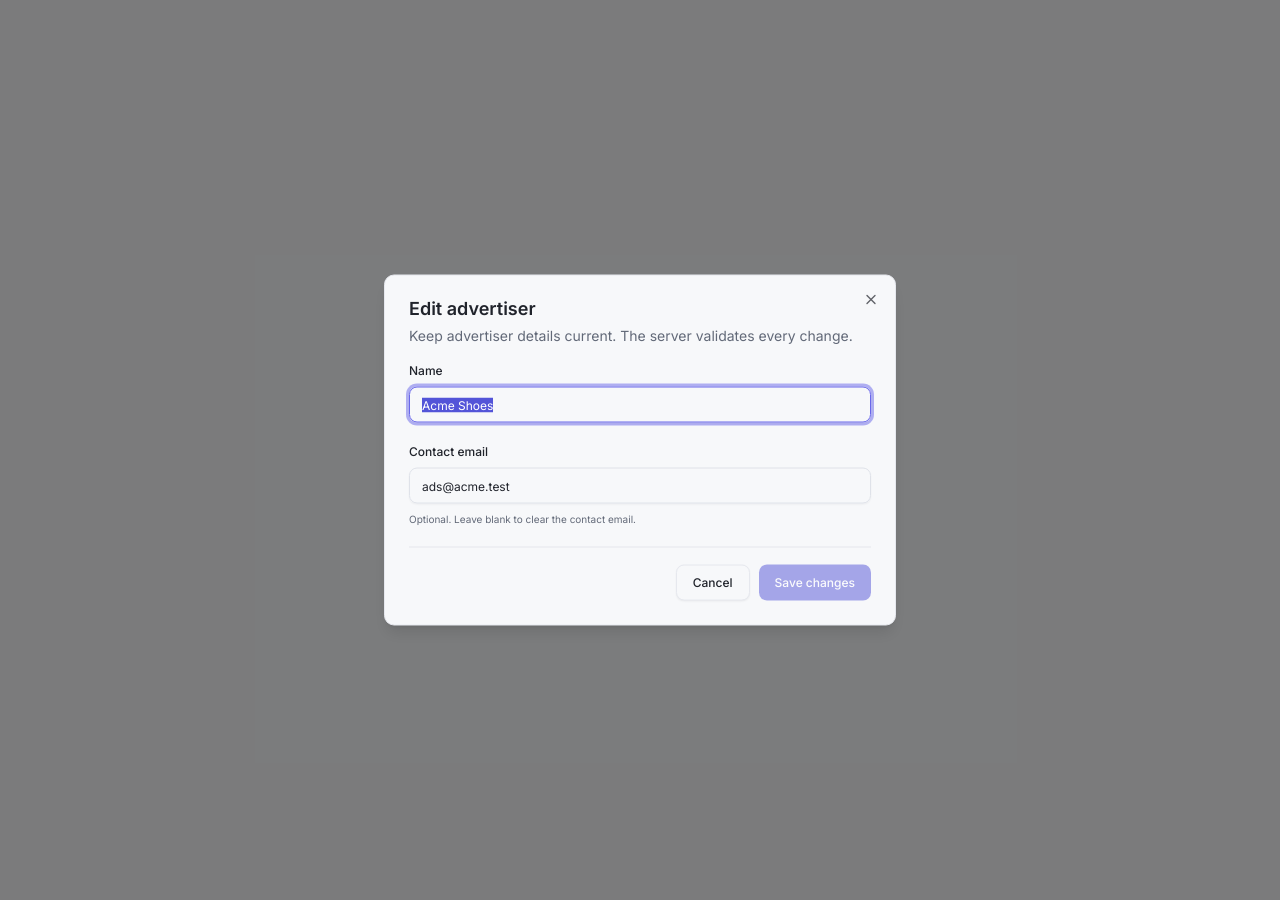
it: maps server field errors and keeps request ID visible
The image size is (1280, 900).
Type " Updated" into the field labelled "Name" at (640, 404), box [409,386,871,422]
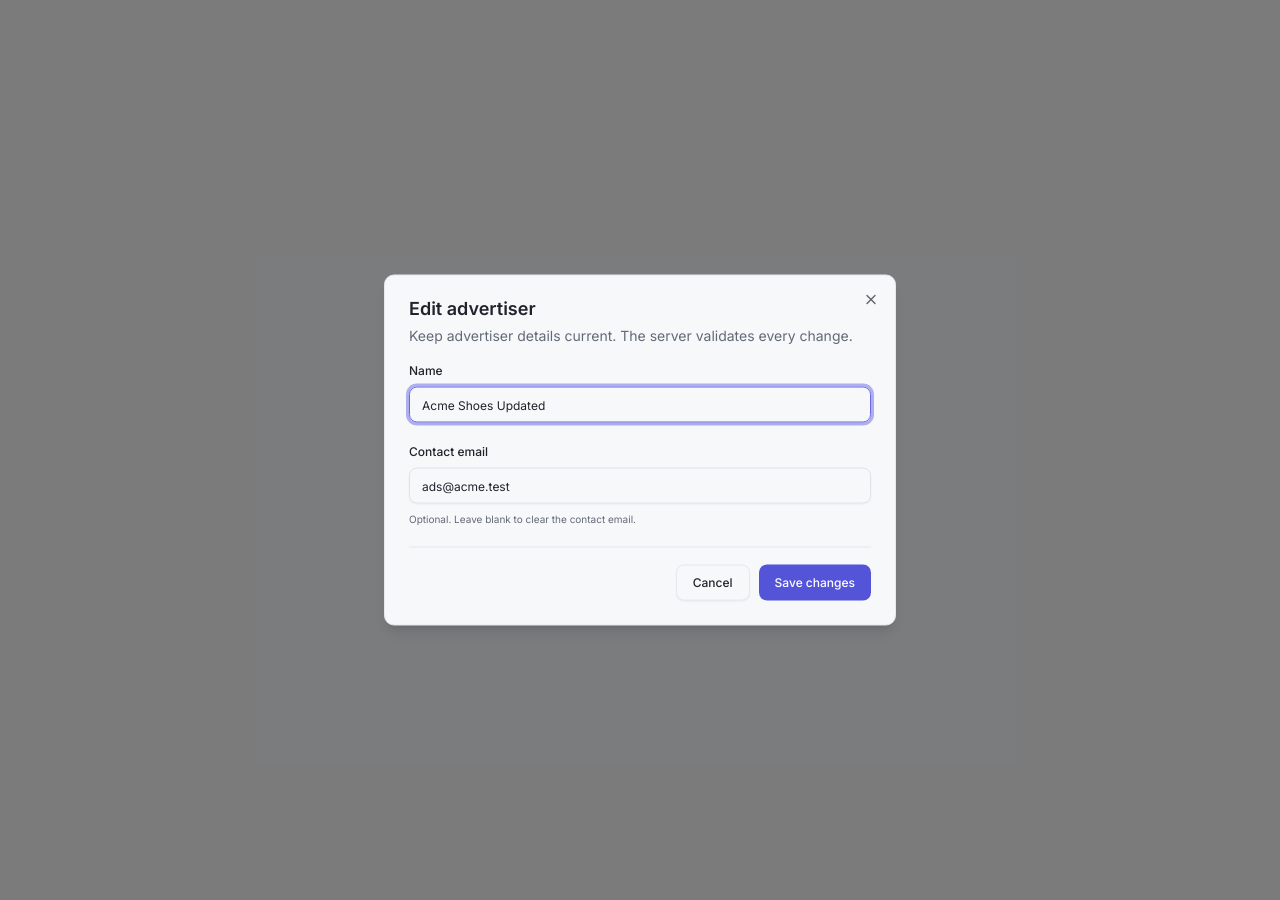
Click the button "Save changes" at (815, 582), box [759,564,871,600]
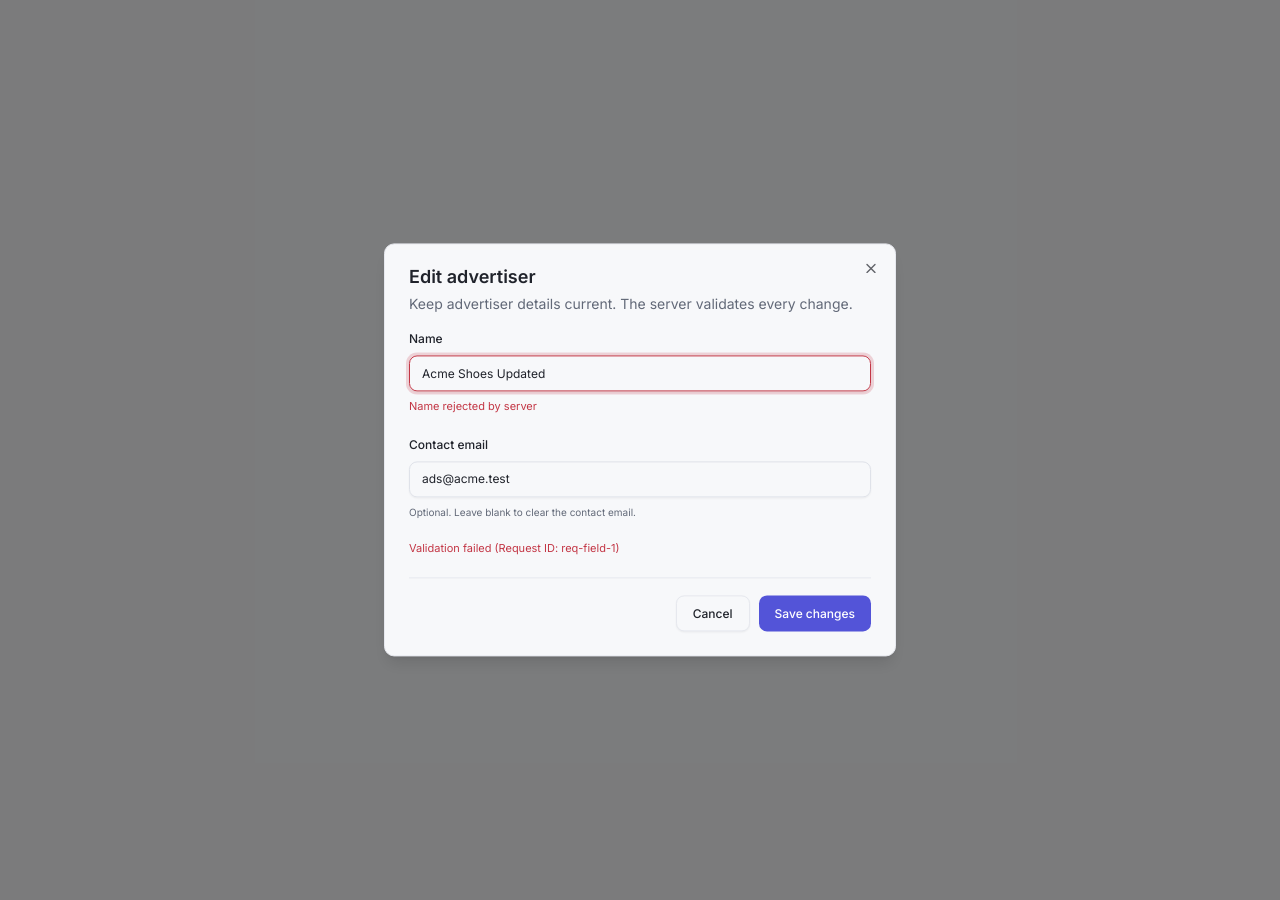
Now the text "Name rejected by server" is shown, box [409,399,537,413]
Now the text "Validation failed (Request ID: req-field-1)" is shown, box [409,541,620,555]
